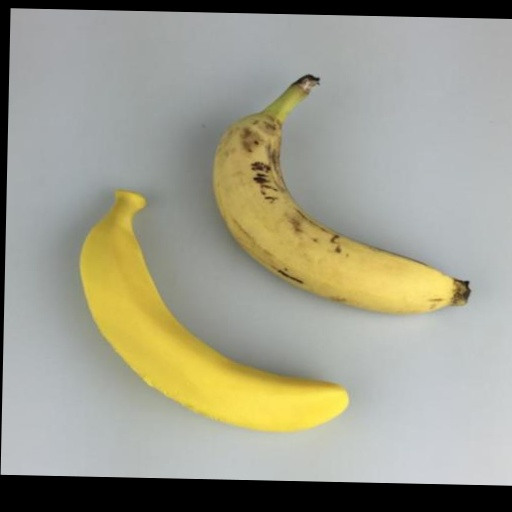fruit: (80, 191, 347, 431), (213, 76, 468, 313)
